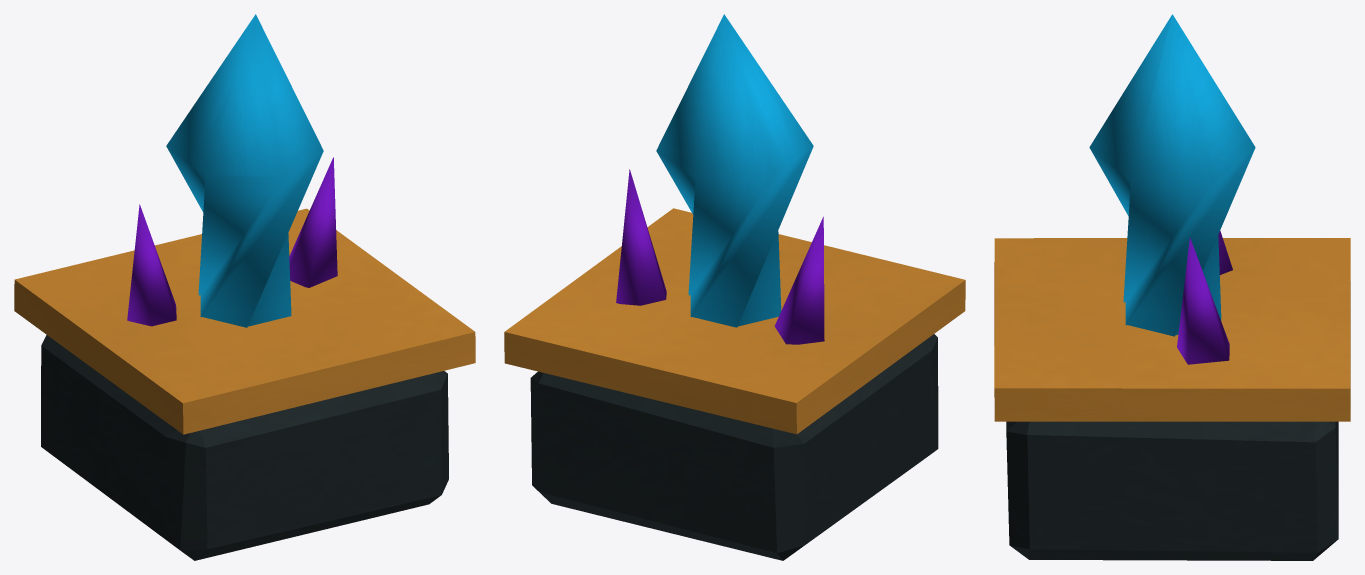
The model's file is SM_crystal_plinth_LOD2.fbx.
The picture shows the model from 3 angles, left to right: view 1: azimuth 30°, elevation 25°; view 2: azimuth 150°, elevation 25°; view 3: azimuth 270°, elevation 25°; orthographic projection. The views are drawn at different scales.
Visible parts, largest first — view 1: SM_crystal_plinth_LOD2; view 2: SM_crystal_plinth_LOD2; view 3: SM_crystal_plinth_LOD2.
Part boxes in pixels (left/top/right/bottom): SM_crystal_plinth_LOD2: left=14, top=14, right=475, bottom=560; SM_crystal_plinth_LOD2: left=504, top=14, right=965, bottom=560; SM_crystal_plinth_LOD2: left=994, top=14, right=1350, bottom=560.
Bounding box in the file's own units: 0.8142 × 0.8138 × 1.24.
